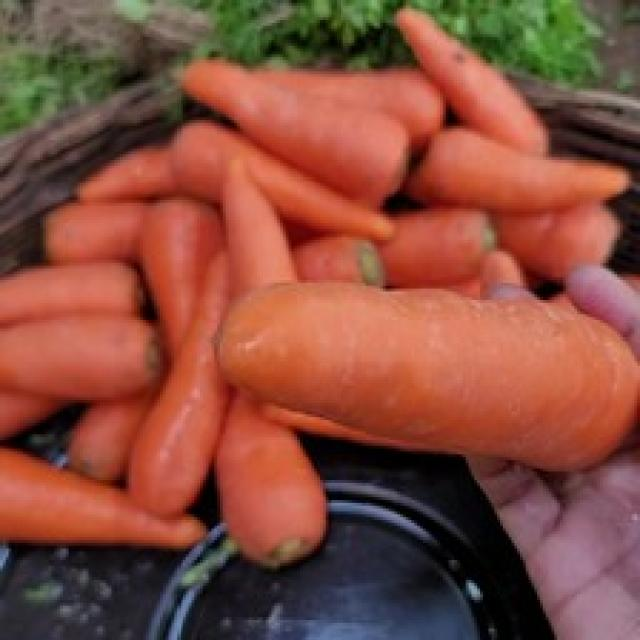Fresh_Carrot: (226, 283, 640, 477), (180, 79, 411, 199), (0, 456, 203, 549), (0, 317, 162, 388)
